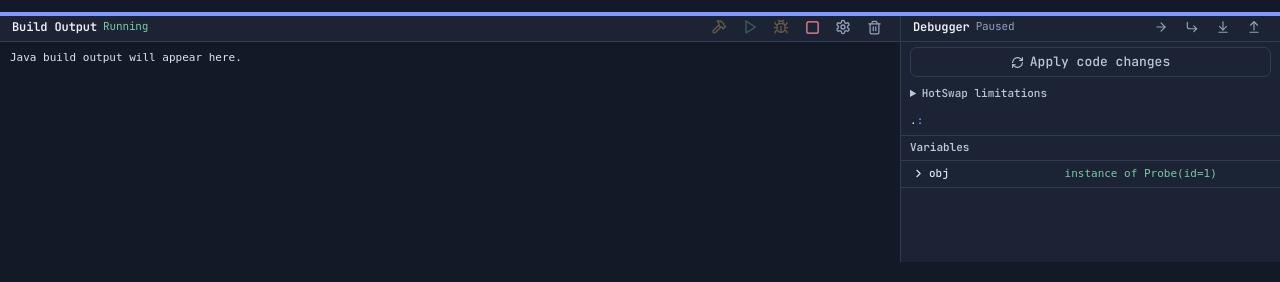
Test: expands nested objects, loads more array values, and clears them on resume
Step 1. Click the button named "Expand obj" → [918, 174], box [910,164,926,184]
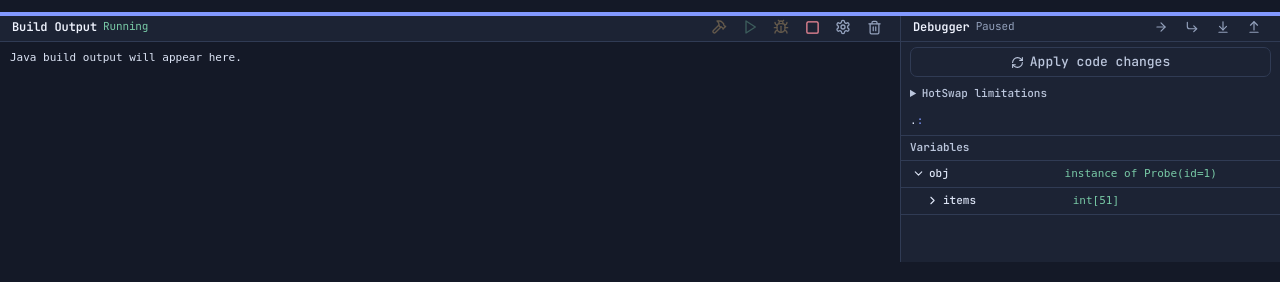
Step 2. Click the button named "Expand items" → [932, 201], box [924,191,940,211]
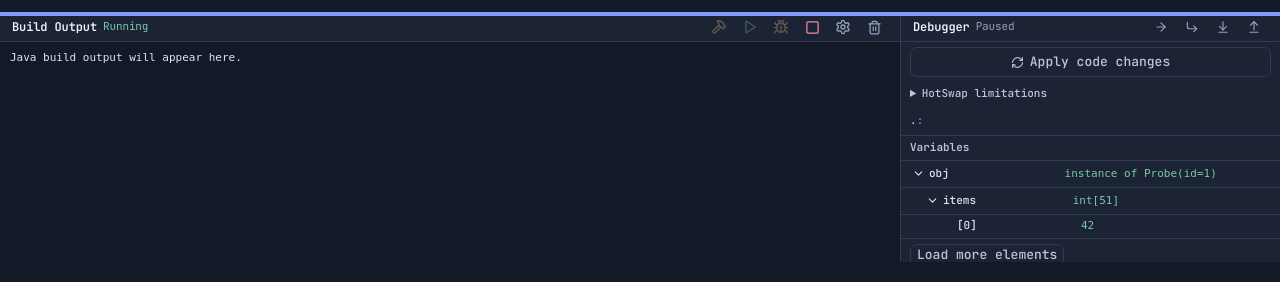
Expected: the text "42" is shown, [1081,219,1094,232]
Step 3. Click the button "Load more elements" → [987, 255], box [910,244,1064,266]
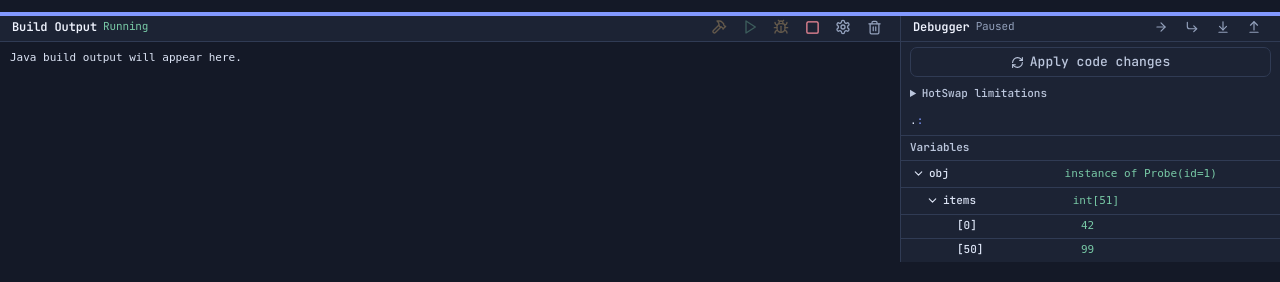
Expected: the text "99" is shown, [1081,243,1094,256]
